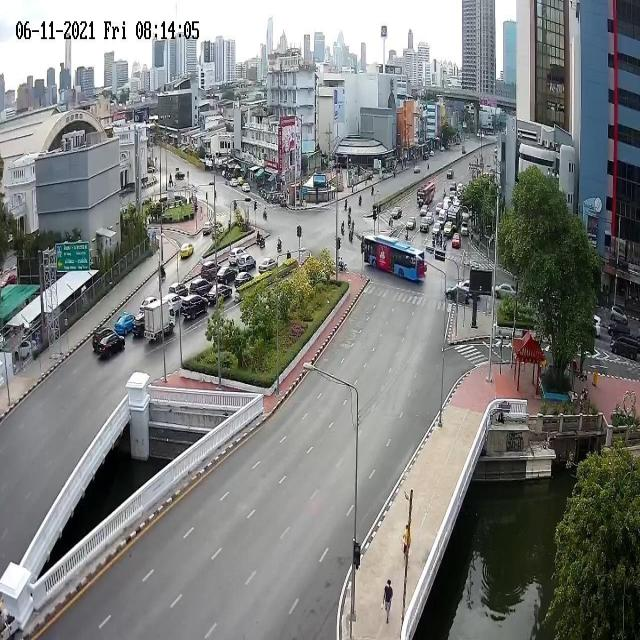Bus: (360, 236, 427, 284)
Car: (609, 333, 639, 363), (182, 292, 211, 323), (98, 332, 126, 360), (114, 313, 136, 337), (607, 319, 634, 338), (207, 282, 230, 304), (190, 276, 214, 296), (216, 266, 238, 286), (140, 296, 160, 317), (609, 305, 629, 325), (178, 237, 195, 260), (200, 261, 219, 281), (166, 293, 180, 319), (228, 245, 246, 264), (239, 253, 256, 272), (168, 281, 188, 297), (234, 270, 254, 286), (258, 258, 277, 272), (443, 220, 454, 240), (392, 201, 402, 222), (404, 216, 416, 231), (202, 218, 212, 236), (451, 233, 462, 249), (432, 222, 441, 238), (420, 218, 430, 232), (242, 180, 250, 193), (229, 178, 238, 189), (446, 168, 454, 180), (414, 164, 420, 174)
Cycle: (276, 235, 283, 252), (256, 230, 264, 244), (341, 197, 349, 211), (340, 220, 346, 238), (259, 236, 267, 249), (348, 228, 354, 243), (262, 206, 268, 220), (370, 184, 376, 198), (357, 194, 363, 206), (347, 211, 351, 229), (404, 227, 409, 240), (431, 233, 435, 248)
Truck: (145, 300, 174, 344), (414, 179, 438, 207), (174, 166, 185, 180)
